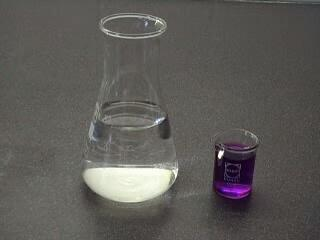Beaker: (205, 123, 263, 197)
Titrarion: (84, 14, 179, 204)
